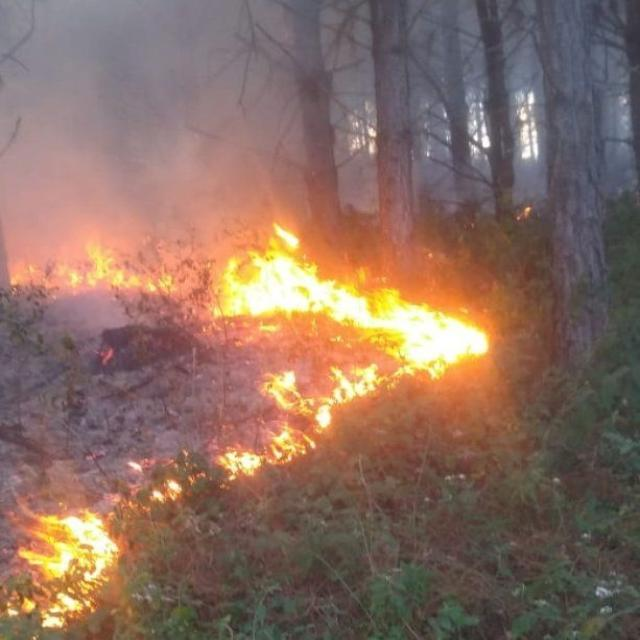Fire: (6, 222, 491, 631), (514, 206, 532, 220)
Smoke: (1, 1, 310, 327)
